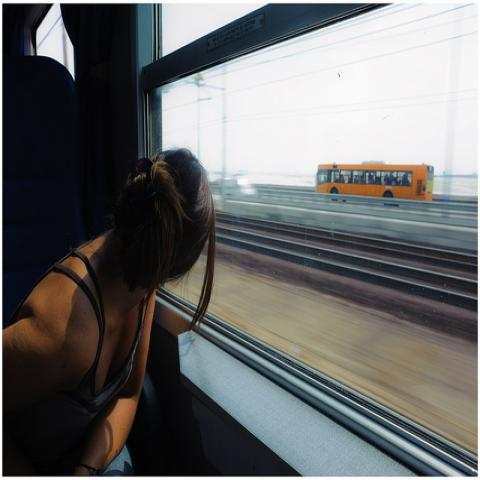bus: (315, 162, 439, 206)
